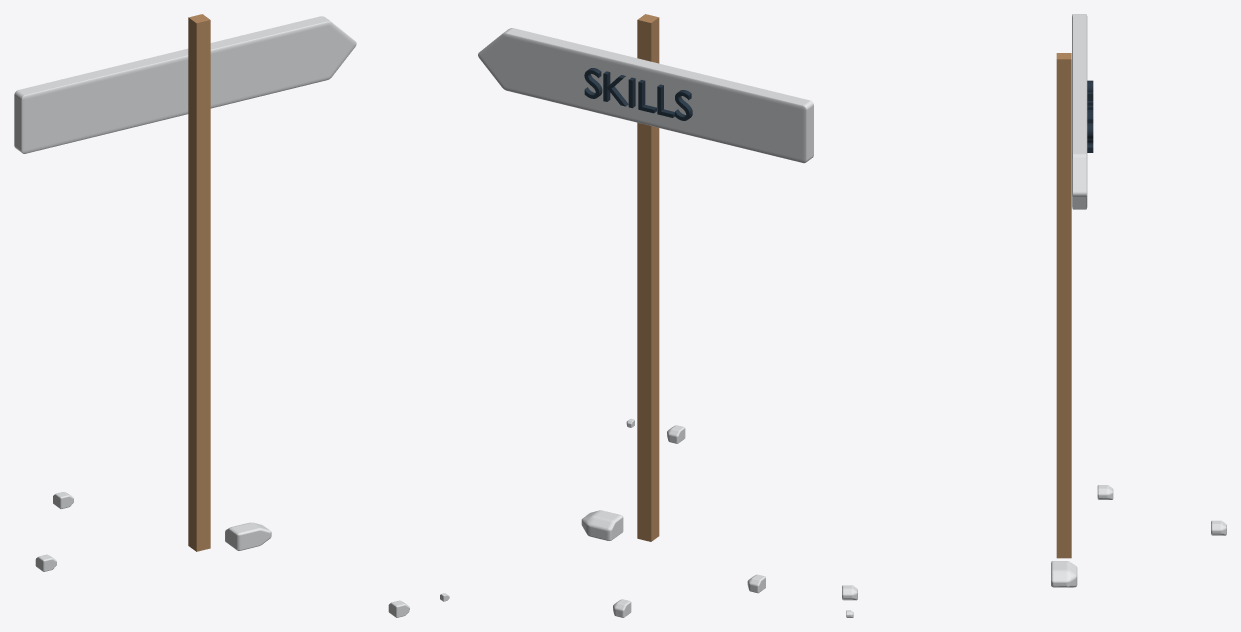
Rendered from signSkills.glb.
The picture shows the model from 3 angles, left to right: view 1: azimuth 30°, elevation 25°; view 2: azimuth 150°, elevation 25°; view 3: azimuth 270°, elevation 25°; orthographic projection. The views are drawn at different scales.
Parts seen in each view (by area): view 1: Cube.001, Cube, Cube.002; view 2: Cube.001, Cube, Text.001, Cube.002; view 3: Cube, Cube.001, Cube.002.
Part boxes in pixels (x1,y1,x2,y2): Cube.001: [14, 16, 356, 153]; Cube: [188, 14, 210, 551]; Cube.002: [225, 522, 271, 550]; Cube.001: [478, 28, 813, 163]; Cube: [637, 14, 659, 541]; Text.001: [584, 68, 692, 120]; Cube.002: [581, 510, 623, 540]; Cube: [1056, 53, 1071, 558]; Cube.001: [1072, 14, 1087, 209]; Cube.002: [1051, 561, 1077, 587].
Bounding box in the file's own units: 11.94 × 18.26 × 12.58.
